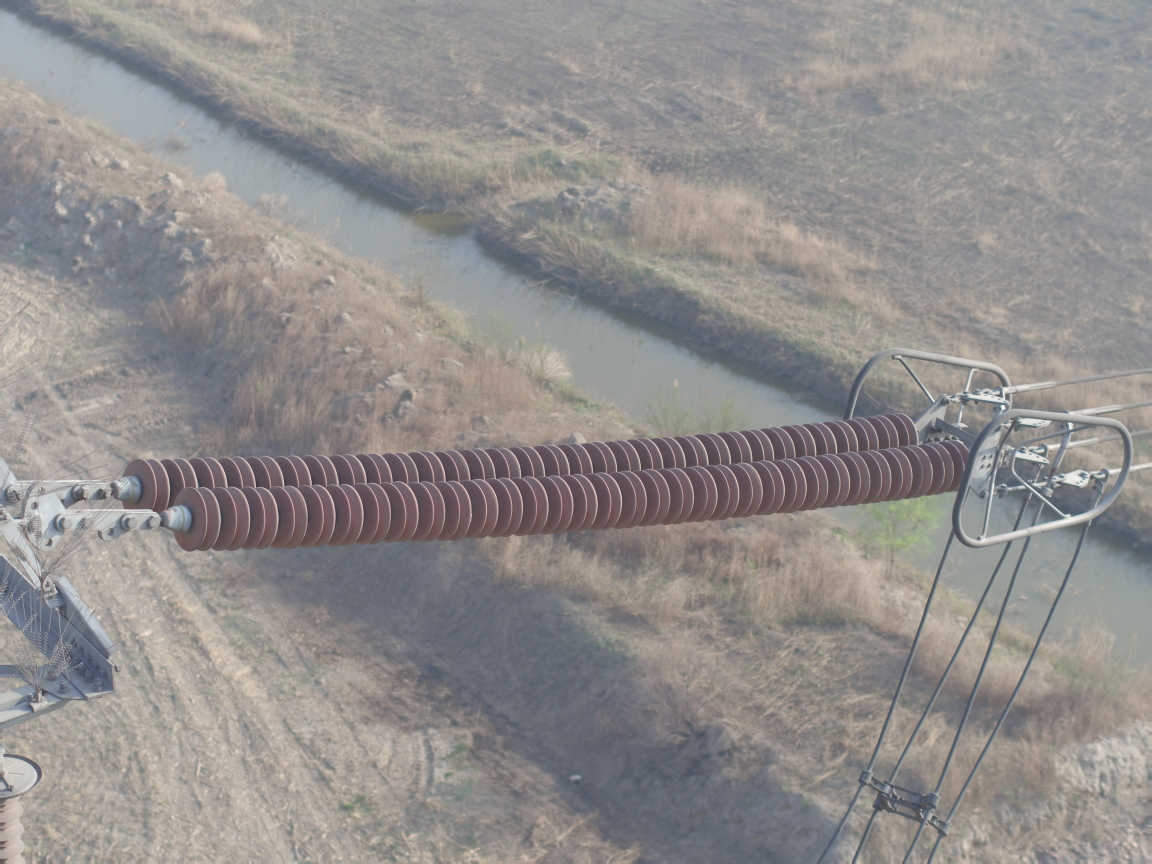insulator: (85, 405, 987, 556)
